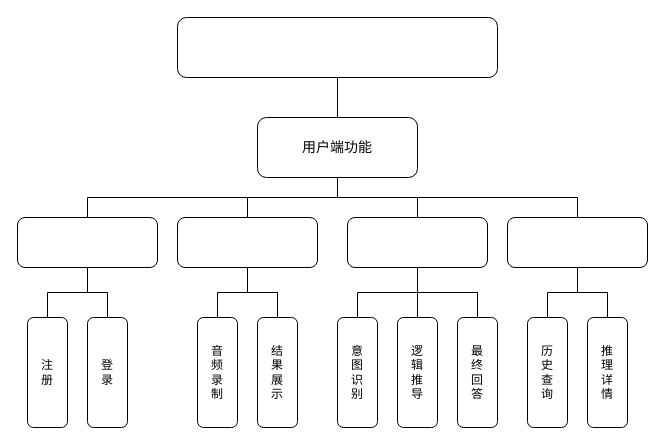
Some shapes in this 665 by 445 pixel diagram are drawn without their labels. Each missing label, with the centre of its shape:
"基于 Qwen2.5-Omni 深度思考的语音理解平台" goes at point (337, 47).
"深度思考模块" goes at point (417, 242).
"记录管理模块" goes at point (577, 242).
"语音交互模块" goes at point (247, 242).
"账号管理模块" goes at point (87, 242).
